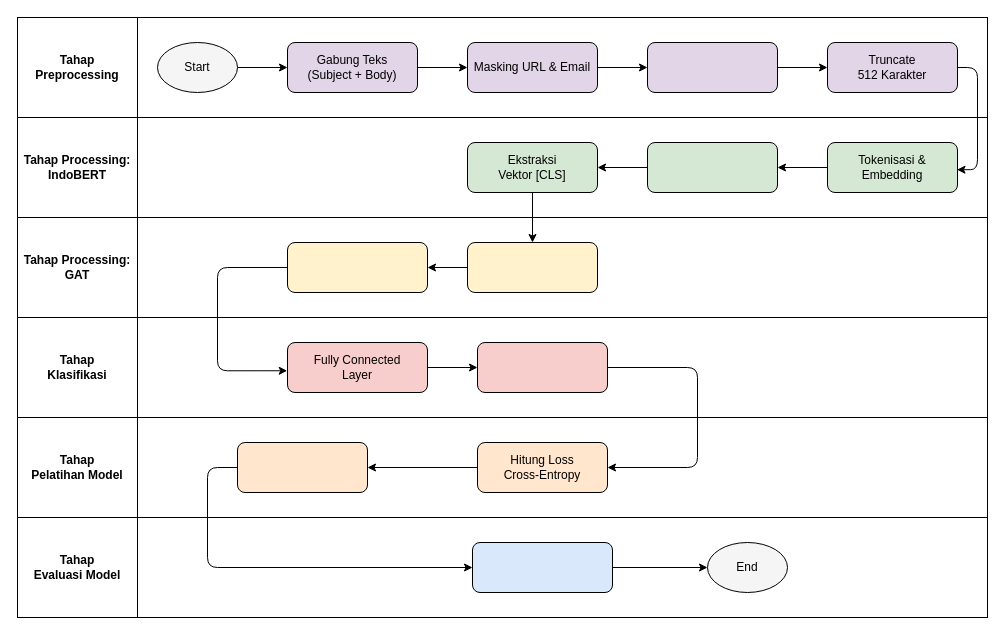
The diagram is 1005 pixels wide and 635 high, and some of its shapes have lost their labels. The centre of each missing label's shape, as x and y in pixels:
"Backpropagation & Update Bobot" goes at point (302, 467).
"Confusion Matrix & Metrik (Accuracy, dll)" goes at point (542, 567).
"Fungsi Softmax P(Spam) & P(Ham)" goes at point (542, 367).
"IndoBERT Encoder Layer" goes at point (712, 167).
"Konstruksi Graph" goes at point (532, 267).
"Pembersihan & Normalisasi Teks" goes at point (712, 67).
"Transformasi & Agregasi (GAT Layer)" goes at point (357, 267).
